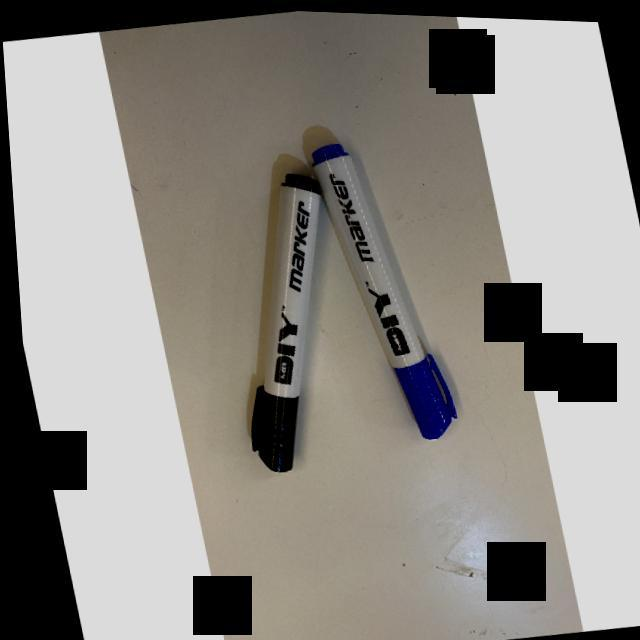marker: (313, 145, 462, 440), (258, 175, 317, 473)
